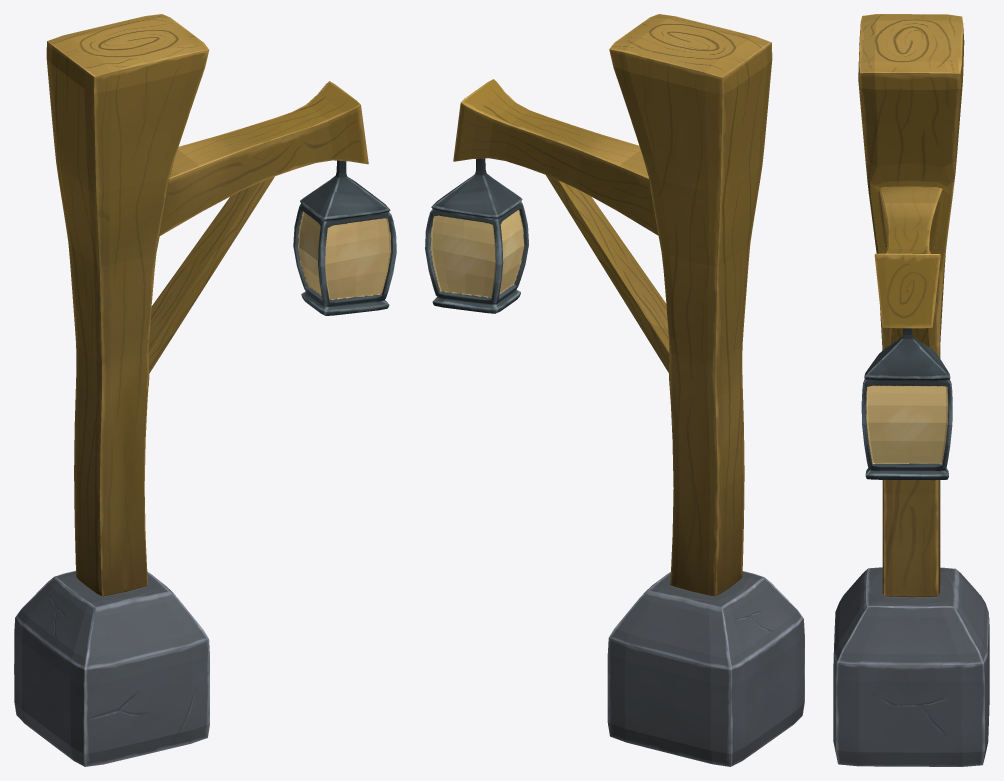
File: LamparaLago.obj
The picture shows the model from 3 angles, left to right: view 1: azimuth 30°, elevation 25°; view 2: azimuth 150°, elevation 25°; view 3: azimuth 270°, elevation 25°; orthographic projection. The views are drawn at different scales.
Visible parts, largest first — view 1: lampara; view 2: lampara; view 3: lampara.
Boxes of the visible parts, bbox=[...] form: lampara: bbox=[14, 14, 396, 766]; lampara: bbox=[425, 14, 804, 766]; lampara: bbox=[833, 14, 989, 766].
Size of the model in its own units: 3.81 by 7.6 by 1.53.
1 material, 1 textured.
